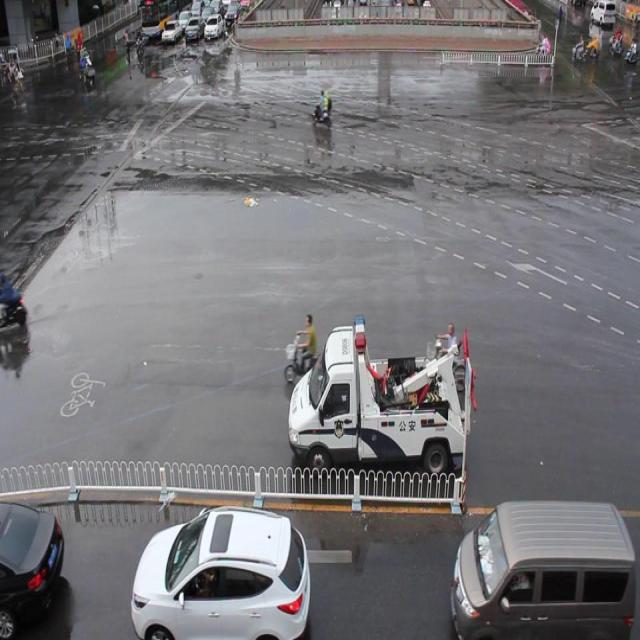bus: (289, 308, 475, 475)
car: (132, 503, 309, 640), (0, 496, 66, 640)
truck: (448, 499, 640, 640)
